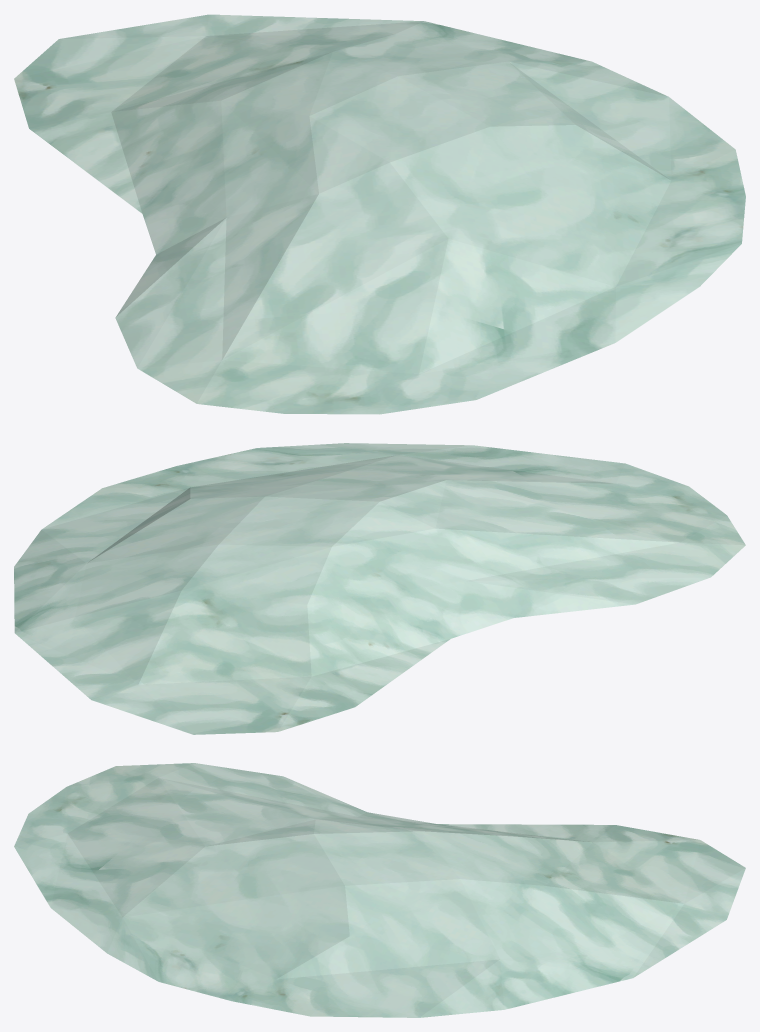
Rendered from small_hill02.fbx.
3 views of the same model, one above another, from view 1: azimuth 30°, elevation 25°; view 2: azimuth 150°, elevation 25°; view 3: azimuth 270°, elevation 25° (orthographic). The views are drawn at different scales.
Parts seen in each view (by area): view 1: obj0.012; view 2: obj0.012; view 3: obj0.012.
Boxes of the visible parts, bbox=[...] form: obj0.012: bbox=[14, 14, 745, 414]; obj0.012: bbox=[14, 443, 745, 734]; obj0.012: bbox=[14, 763, 745, 1017].
Bounding box in the file's own units: 13.97 × 1.36 × 16.94.
